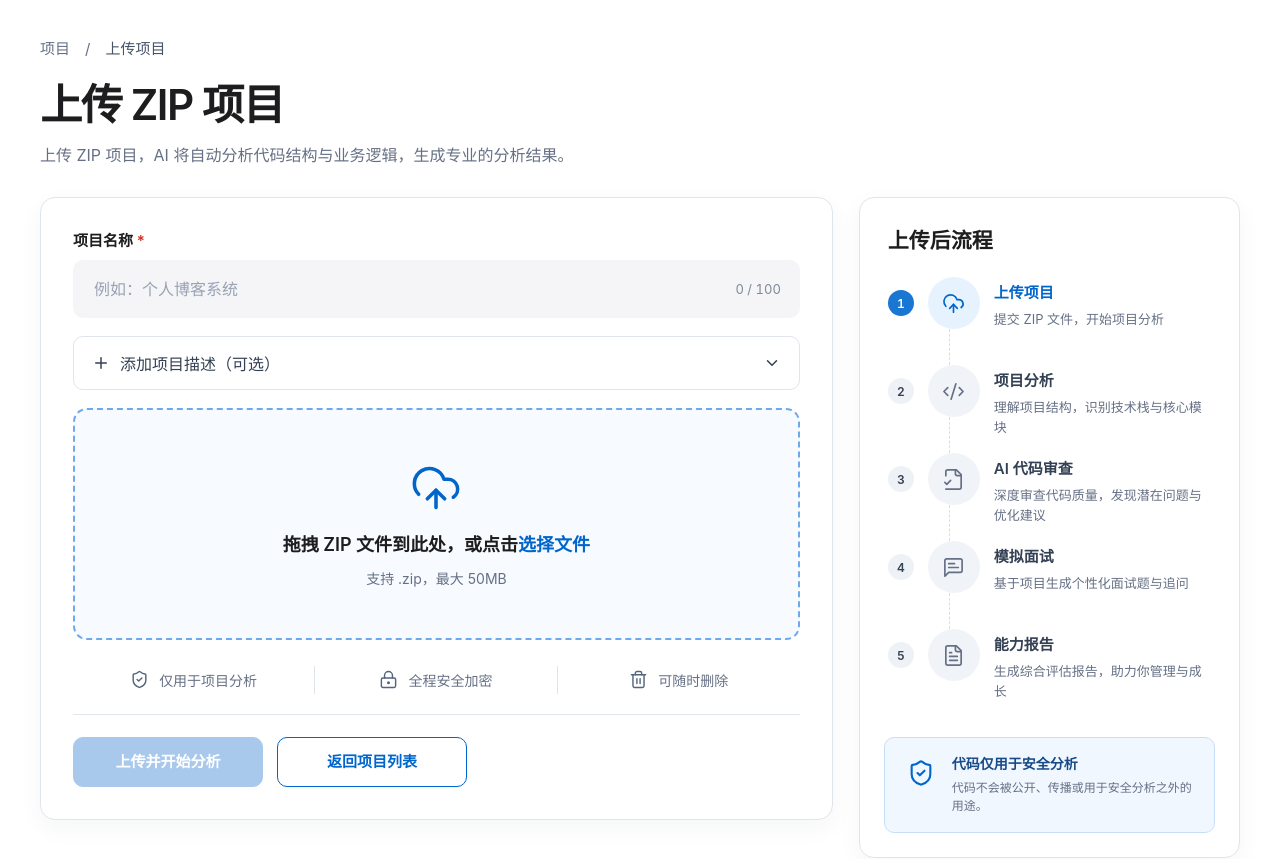
Test: NewProjectPage › enforces the 100-character project name and expands the optional description
Expected: the text "0 / 100" is shown, top-left (735, 281), bottom-right (781, 297)
Click the button "添加项目描述（可选）".
click(200, 364)  # box top-left (73, 336), bottom-right (800, 390)
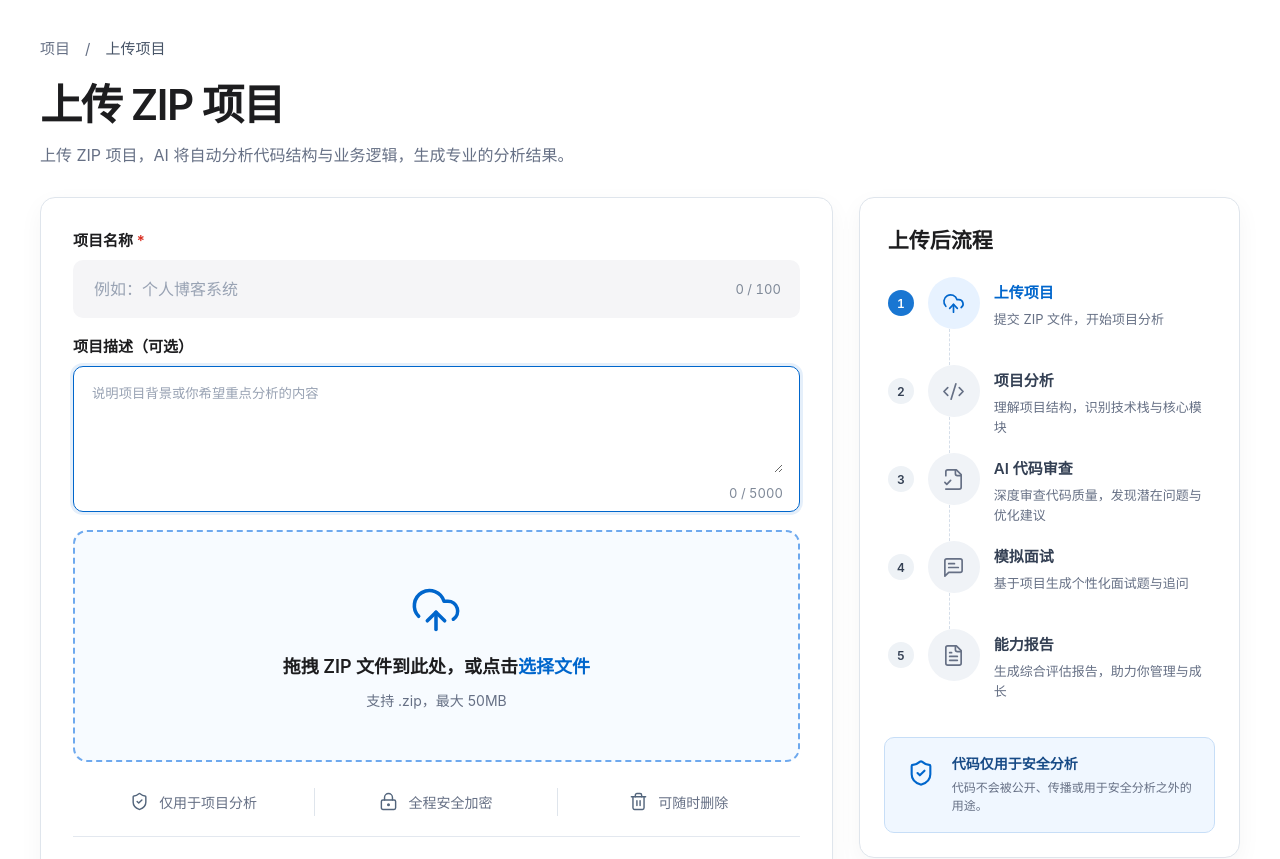
Expected: the text box labelled "项目描述（可选）" is shown, top-left (90, 381), bottom-right (783, 473)
